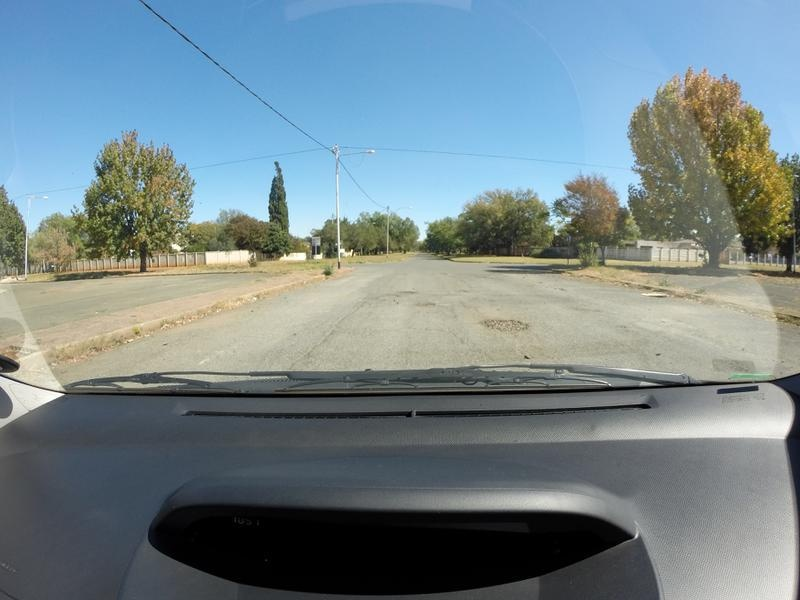pothole: (482, 317, 537, 330), (415, 300, 445, 309)
